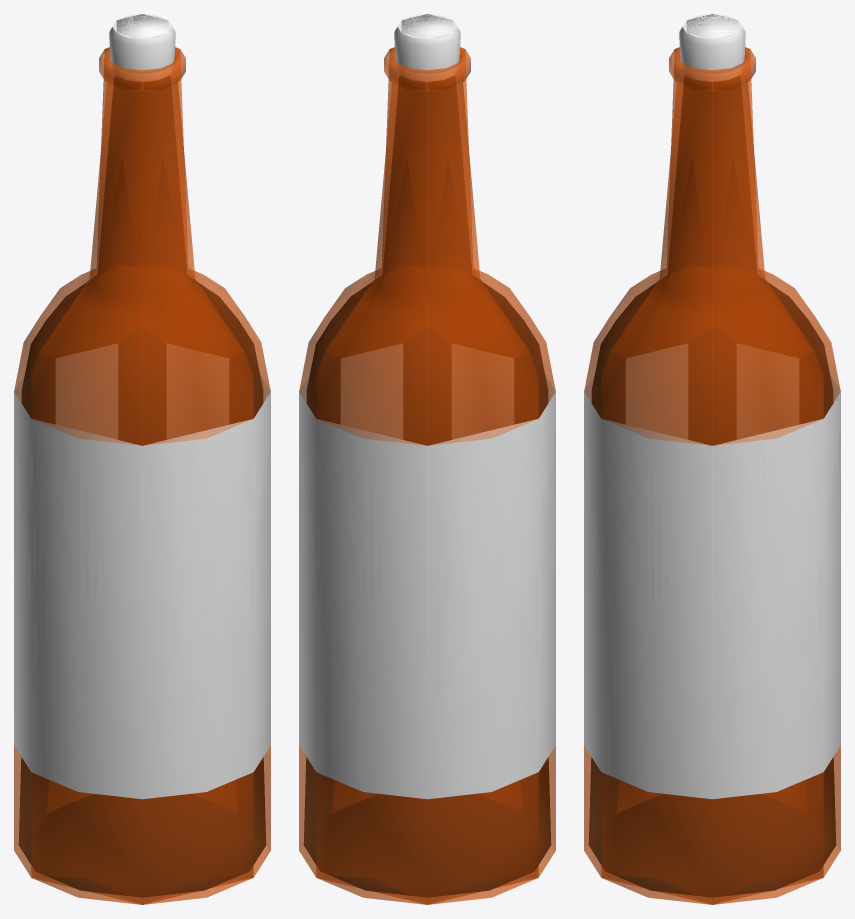
File: BeerBottle 3.glb
3 views of the same model, side by side, from view 1: azimuth 30°, elevation 25°; view 2: azimuth 150°, elevation 25°; view 3: azimuth 270°, elevation 25° (orthographic).
Parts seen in each view (by area): view 1: Circle.023, Circle.025, Circle.024; view 2: Circle.023, Circle.025, Circle.024; view 3: Circle.023, Circle.025, Circle.024.
Boxes of the visible parts, box(x1,y1,x2,y2) form: Circle.023: box(14, 14, 270, 904); Circle.025: box(31, 14, 253, 904); Circle.024: box(18, 76, 266, 897); Circle.023: box(299, 14, 555, 904); Circle.025: box(316, 14, 538, 904); Circle.024: box(303, 76, 551, 897); Circle.023: box(584, 14, 840, 904); Circle.025: box(601, 14, 823, 904); Circle.024: box(588, 76, 836, 897).
Bounding box in the file's own units: 0.0785 × 0.2778 × 0.0785.
